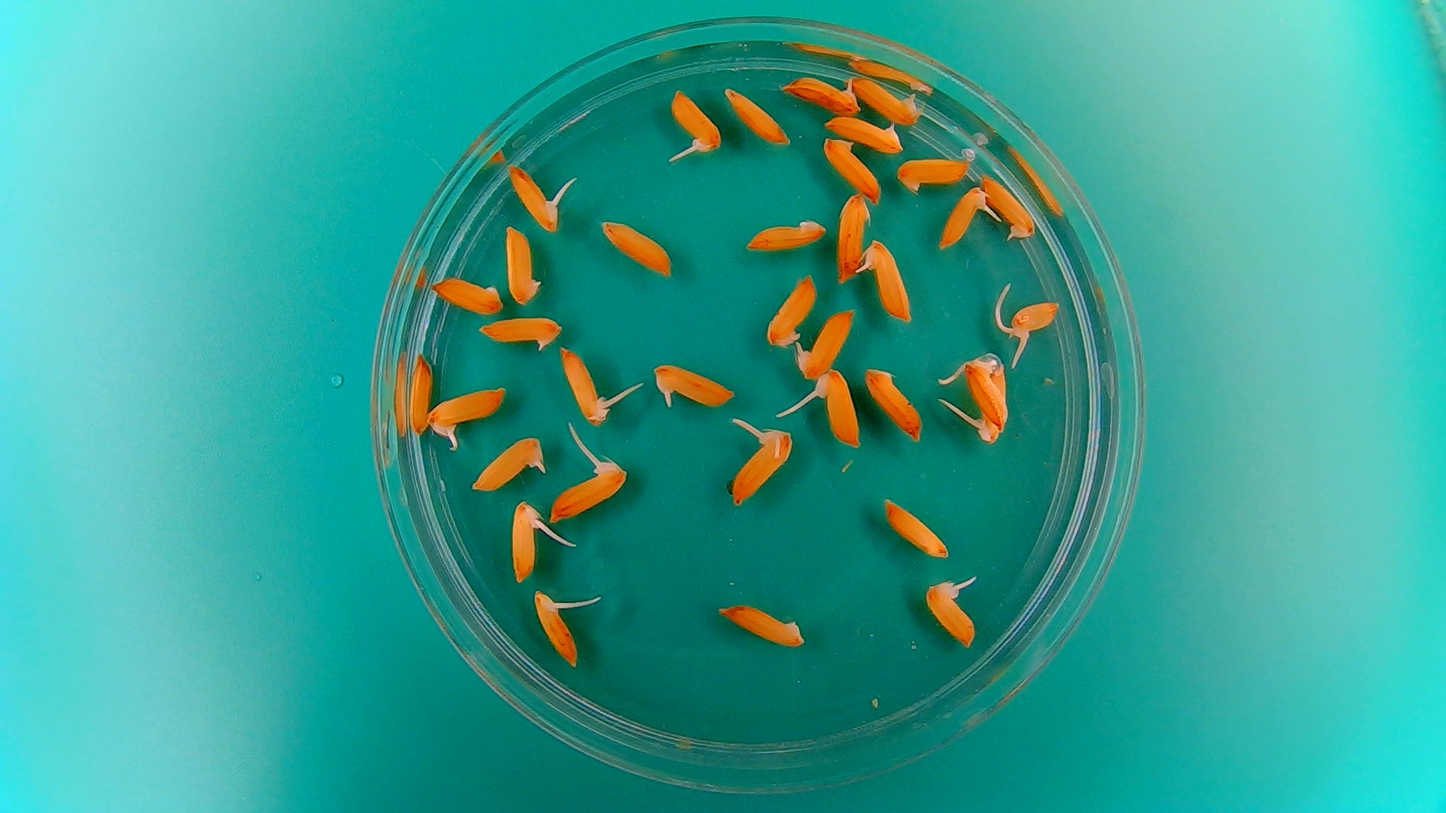no: (597, 216, 676, 281), (713, 598, 807, 650), (862, 364, 924, 440), (762, 270, 819, 349), (721, 84, 791, 148), (881, 495, 951, 559), (821, 134, 883, 204), (502, 221, 547, 308), (475, 312, 566, 352), (429, 271, 508, 315), (834, 189, 870, 285), (743, 214, 829, 254), (893, 153, 975, 194), (822, 114, 901, 153), (407, 348, 435, 439)
yes: (547, 459, 627, 523), (530, 585, 590, 669), (505, 159, 570, 234), (728, 430, 791, 507), (859, 235, 913, 324), (793, 307, 855, 380), (469, 435, 541, 495), (428, 385, 506, 440), (558, 346, 609, 428), (667, 86, 724, 159), (983, 169, 1039, 242), (847, 74, 923, 126), (938, 182, 995, 250), (975, 351, 1015, 447), (815, 368, 862, 449), (654, 364, 738, 407), (779, 72, 861, 116), (960, 356, 1008, 429), (929, 583, 981, 650), (506, 497, 542, 580), (1008, 303, 1060, 340)
